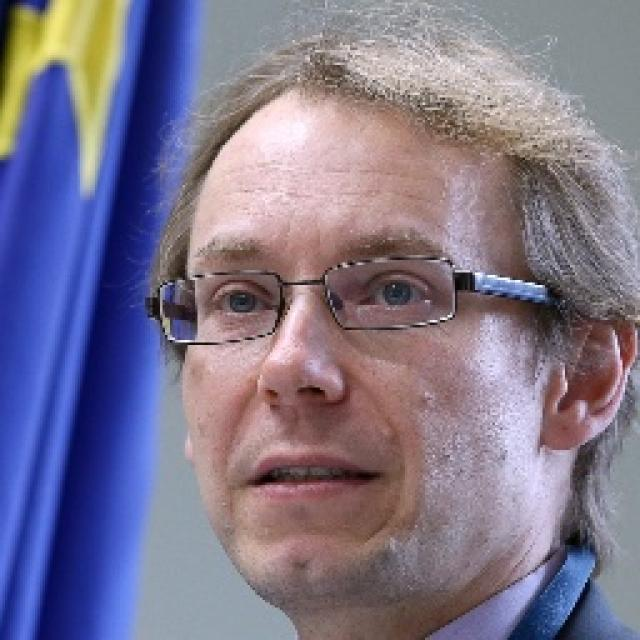earlobe: (540, 299, 638, 452), (539, 403, 585, 451)
eye: (356, 272, 430, 310), (210, 281, 275, 317)
